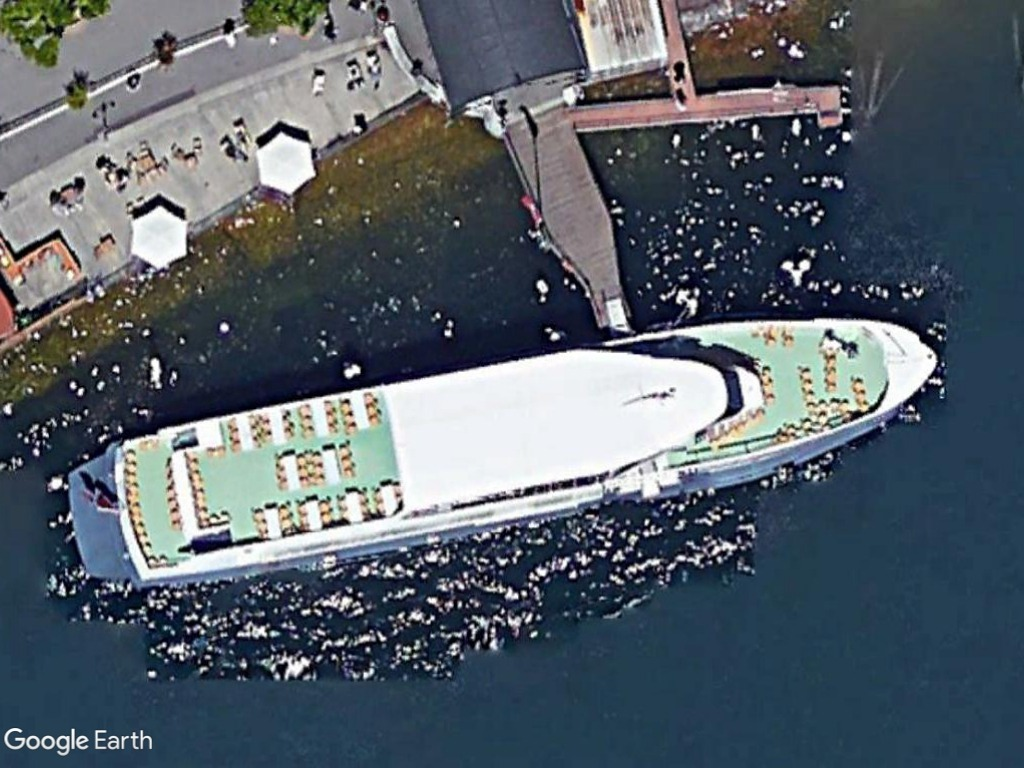boat: (69, 320, 942, 589)
